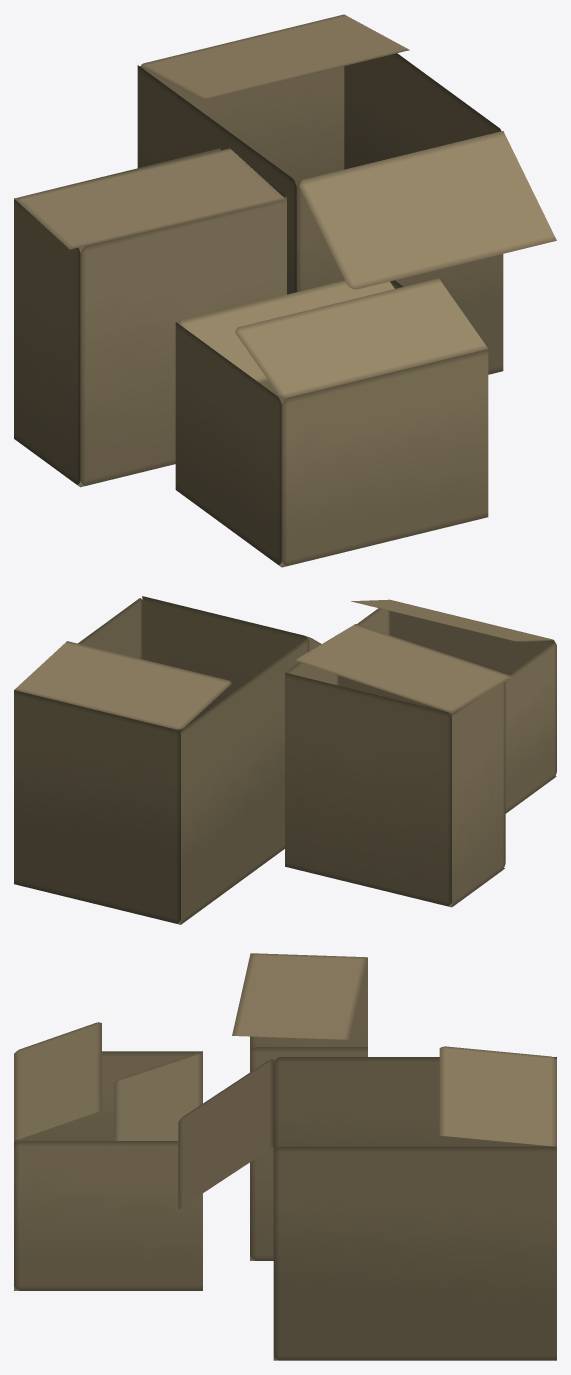
File: cardboardboxes1.obj
3 renders of one model, top to bottom at view 1: azimuth 30°, elevation 25°; view 2: azimuth 150°, elevation 25°; view 3: azimuth 270°, elevation 25°, orthographic. The views are drawn at different scales.
Visible parts, largest first — view 1: baseModel10, baseModel17, baseModel5, baseModel8, baseModel12, baseModel14, baseModel19, baseModel2, baseModel0, baseModel6, baseModel1, baseModel3 (+1 smaller); view 2: baseModel15, baseModel0, baseModel1, baseModel6, baseModel14, baseModel19, baseModel3, baseModel8, baseModel10, baseModel2, baseModel12, baseModel17 (+2 smaller); view 3: baseModel2, baseModel9, baseModel1, baseModel6, baseModel19, baseModel5, baseModel12, baseModel13, baseModel16, baseModel8, baseModel14.
Boxes of the visible parts, x1,y1,x2,y2 form: baseModel10: [281, 349, 488, 565]; baseModel17: [80, 196, 286, 485]; baseModel5: [299, 131, 556, 289]; baseModel8: [175, 322, 281, 564]; baseModel12: [235, 278, 487, 397]; baseModel14: [14, 199, 80, 484]; baseModel19: [14, 148, 285, 249]; baseModel2: [344, 53, 501, 169]; baseModel0: [140, 66, 344, 186]; baseModel6: [141, 14, 409, 99]; baseModel1: [137, 65, 296, 294]; baseModel3: [296, 181, 503, 374]; baseModel15: [285, 672, 451, 906]; baseModel0: [14, 690, 180, 923]; baseModel1: [181, 639, 309, 924]; baseModel6: [14, 641, 231, 729]; baseModel14: [452, 681, 505, 906]; baseModel19: [294, 624, 512, 713]; baseModel3: [142, 596, 307, 735]; baseModel8: [505, 642, 556, 813]; baseModel10: [390, 611, 555, 675]; baseModel2: [78, 598, 142, 658]; baseModel12: [351, 599, 554, 641]; baseModel17: [338, 675, 451, 717]; baseModel2: [273, 1146, 556, 1360]; baseModel9: [14, 1141, 202, 1290]; baseModel1: [273, 1057, 556, 1151]; baseModel6: [439, 1046, 556, 1146]; baseModel19: [232, 953, 367, 1039]; baseModel5: [178, 1059, 273, 1209]; baseModel12: [14, 1022, 101, 1140]; baseModel13: [114, 1053, 202, 1140]; baseModel16: [250, 1047, 367, 1260]; baseModel8: [14, 1051, 202, 1145]; baseModel14: [250, 959, 367, 1051].
Size of the model in its own units: 19.44 by 10.52 by 23.
